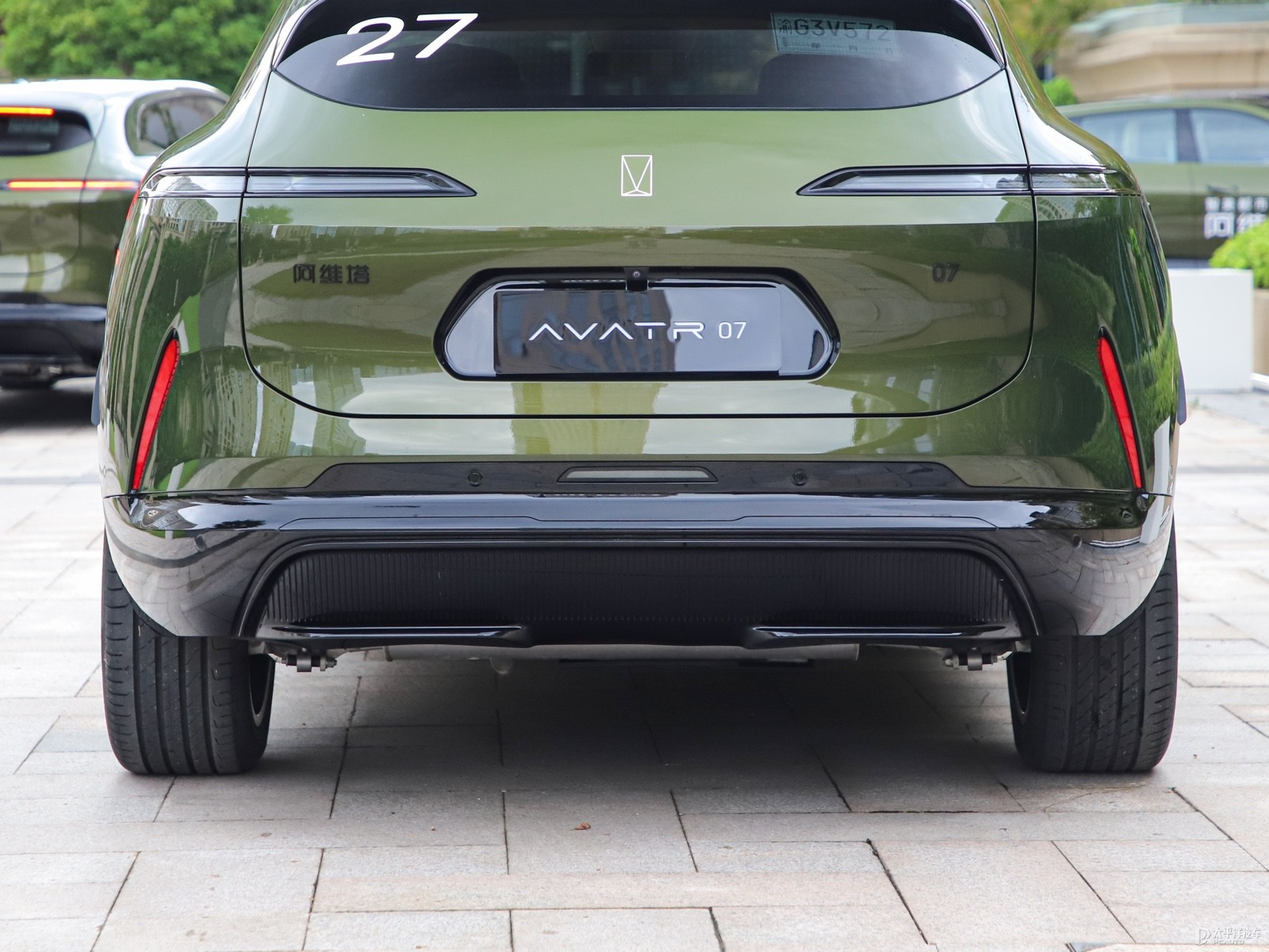AVATR: (621, 155, 652, 196)
